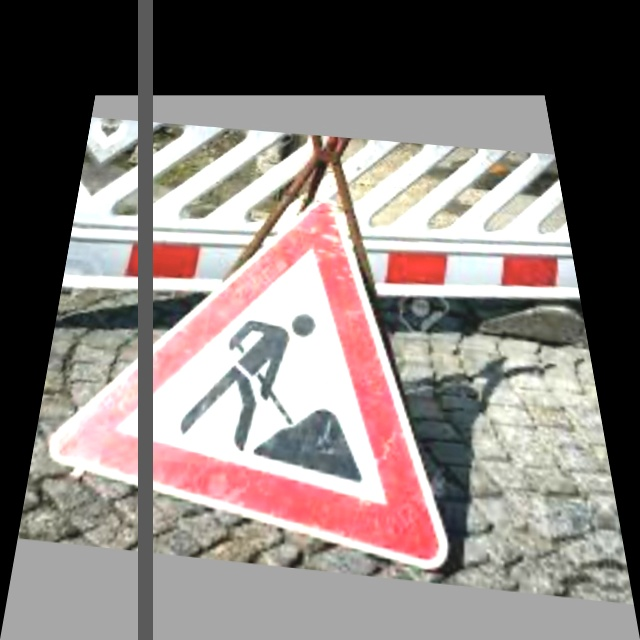Men_at_Work: (74, 195, 485, 571)
